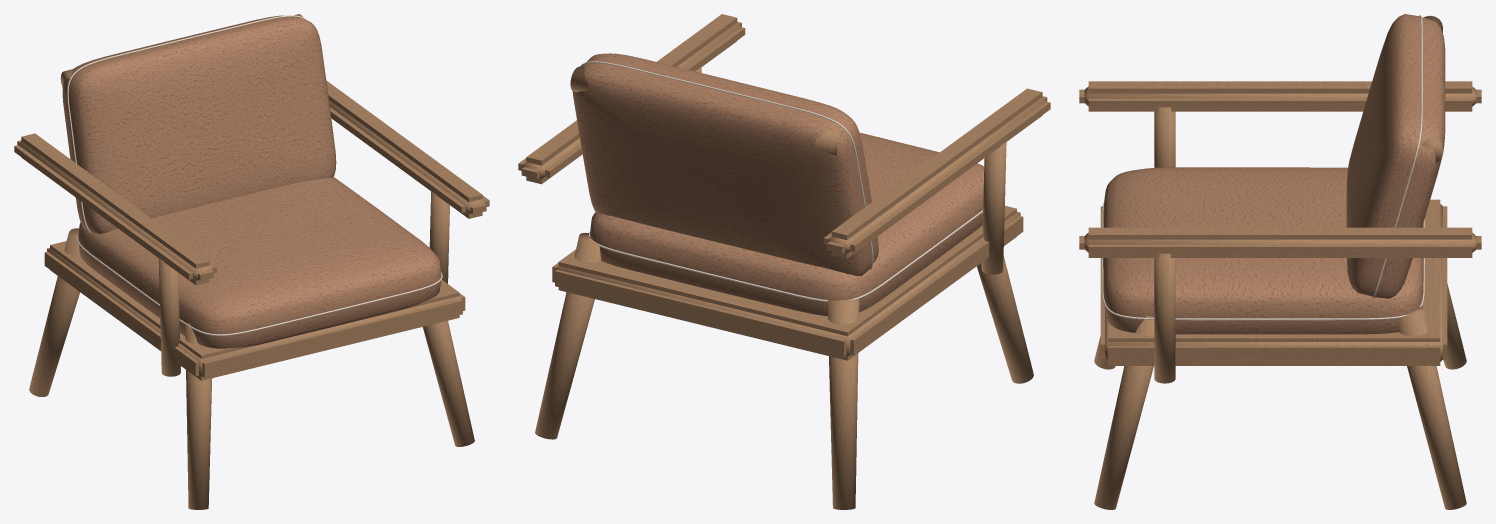
The model's file is contemporary.armchair.gltf.
3 views of the same model, side by side, from view 1: azimuth 30°, elevation 25°; view 2: azimuth 150°, elevation 25°; view 3: azimuth 270°, elevation 25° (orthographic). The views are drawn at different scales.
Parts seen in each view (by area): view 1: contemporary.armchair.splayed-leg; view 2: contemporary.armchair.splayed-leg; view 3: contemporary.armchair.splayed-leg.
Boxes of the visible parts, left/top/right/bottom form: contemporary.armchair.splayed-leg: left=14, top=14, right=489, bottom=509; contemporary.armchair.splayed-leg: left=518, top=14, right=1050, bottom=509; contemporary.armchair.splayed-leg: left=1079, top=14, right=1481, bottom=509.
Bounding box in the file's own units: 0.7494 × 0.8007 × 0.7896.
3 materials, 2 textured.
